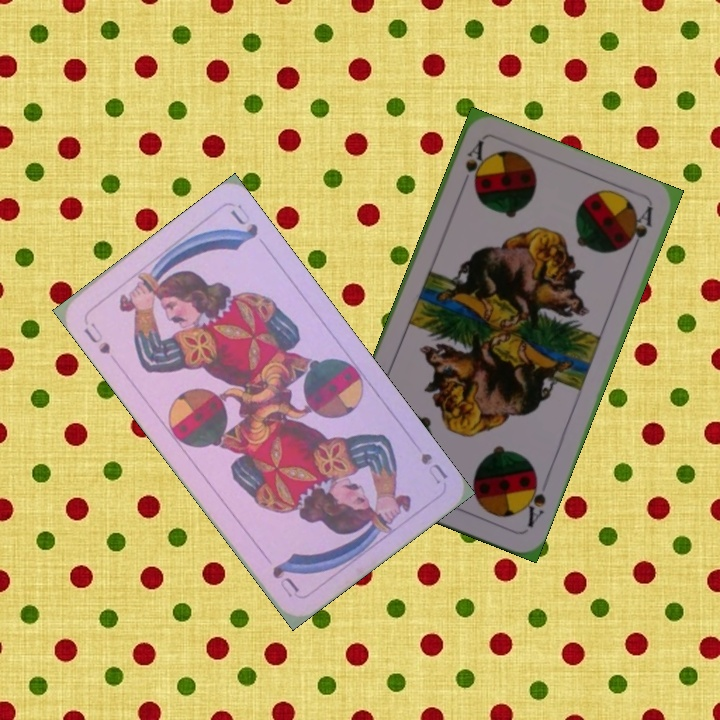SA: (518, 472, 549, 530), (461, 136, 488, 190)
SU: (415, 448, 450, 487), (79, 318, 113, 357)
